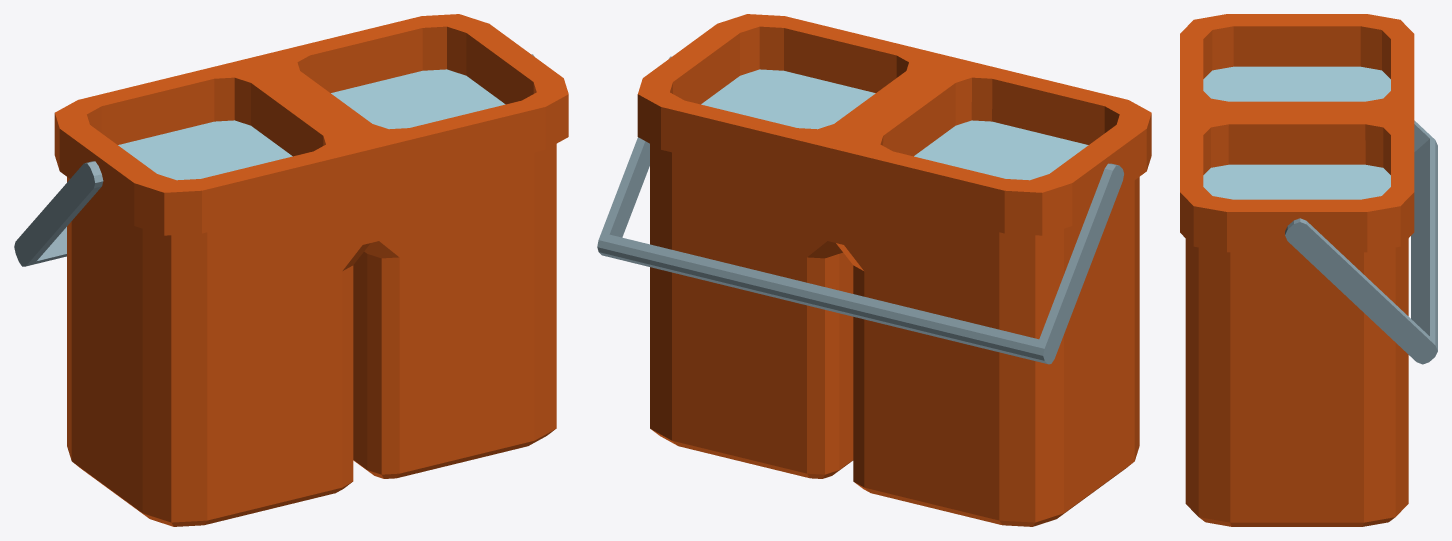
Rendered from Valde01.fbx.
The picture shows the model from 3 angles, left to right: view 1: azimuth 30°, elevation 25°; view 2: azimuth 150°, elevation 25°; view 3: azimuth 270°, elevation 25°; orthographic projection. The views are drawn at different scales.
Parts seen in each view (by area): view 1: Valde01; view 2: Valde01; view 3: Valde01.
Boxes of the visible parts, x1=… form: Valde01: x1=14, y1=14, x2=568, y2=526; Valde01: x1=597, y1=14, x2=1151, y2=526; Valde01: x1=1180, y1=14, x2=1437, y2=526.
Bounding box in the file's own units: 54.5 × 40 × 28.91.
